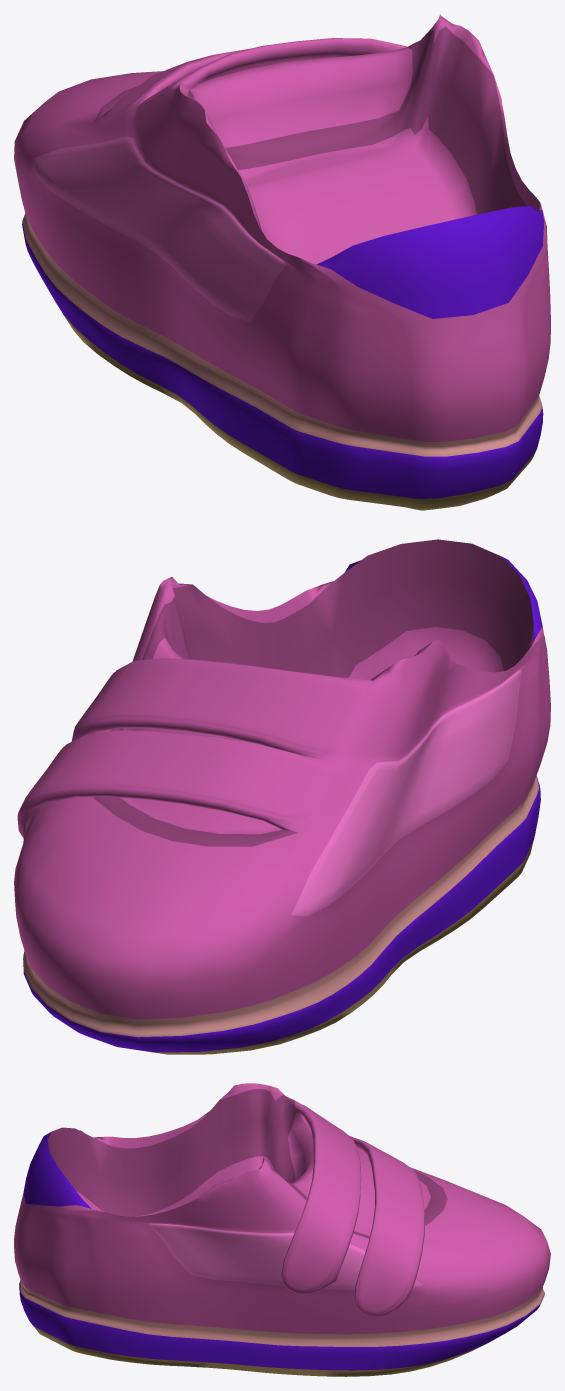
The model's file is Sneaker.fbx.
3 renders of one model, top to bottom at view 1: azimuth 30°, elevation 25°; view 2: azimuth 150°, elevation 25°; view 3: azimuth 270°, elevation 25°, orthographic. The views are drawn at different scales.
Parts seen in each view (by area): view 1: Shoe3; view 2: Shoe3; view 3: Shoe3.
Boxes of the visible parts, x1,y1,x2,y2 form: Shoe3: (14,14,550,510); Shoe3: (14,539,550,1054); Shoe3: (14,1083,550,1376).
Bounding box in the file's own units: 351 × 339 × 753.
